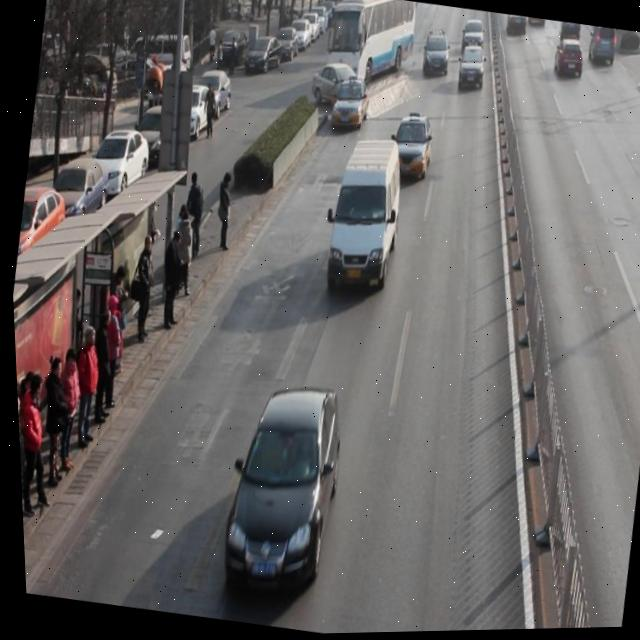car: (205, 381, 351, 604), (383, 110, 437, 186), (307, 60, 372, 118), (327, 74, 374, 135), (418, 30, 454, 82), (454, 46, 489, 97), (551, 40, 587, 83), (585, 28, 620, 70), (459, 19, 488, 60)
truck: (317, 134, 411, 301)
van: (318, 0, 418, 92)
